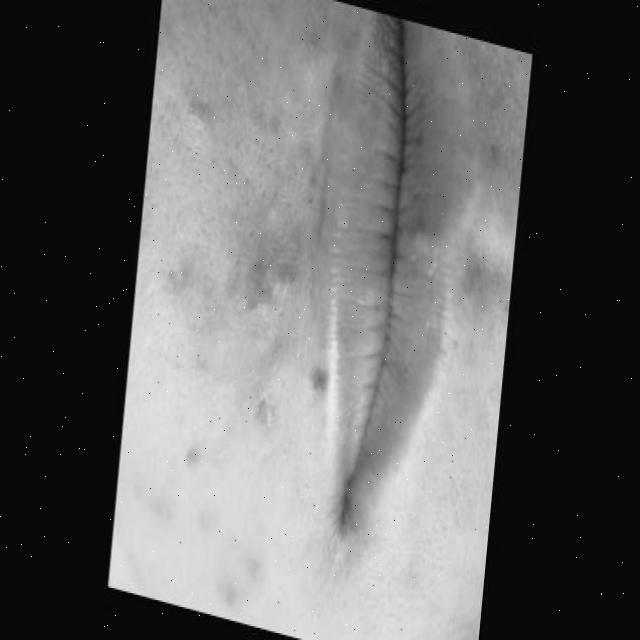Acne: (150, 21, 328, 606)
